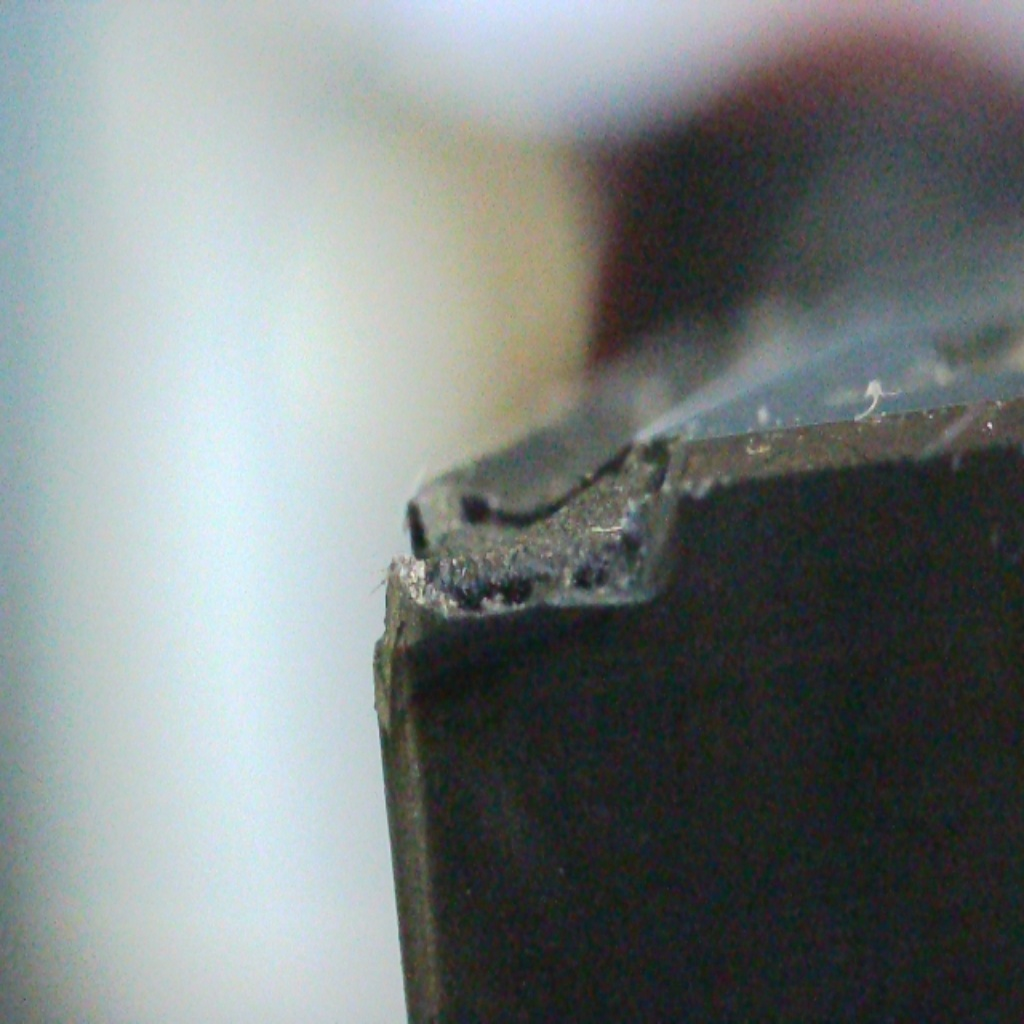flank_wear: (385, 542, 670, 640)
